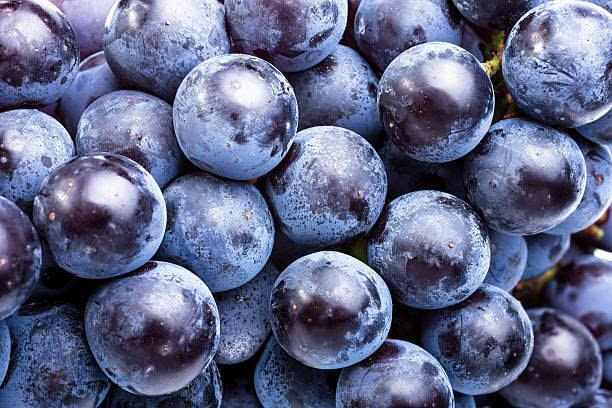grape: (0, 0, 348, 408), (352, 0, 608, 408)
